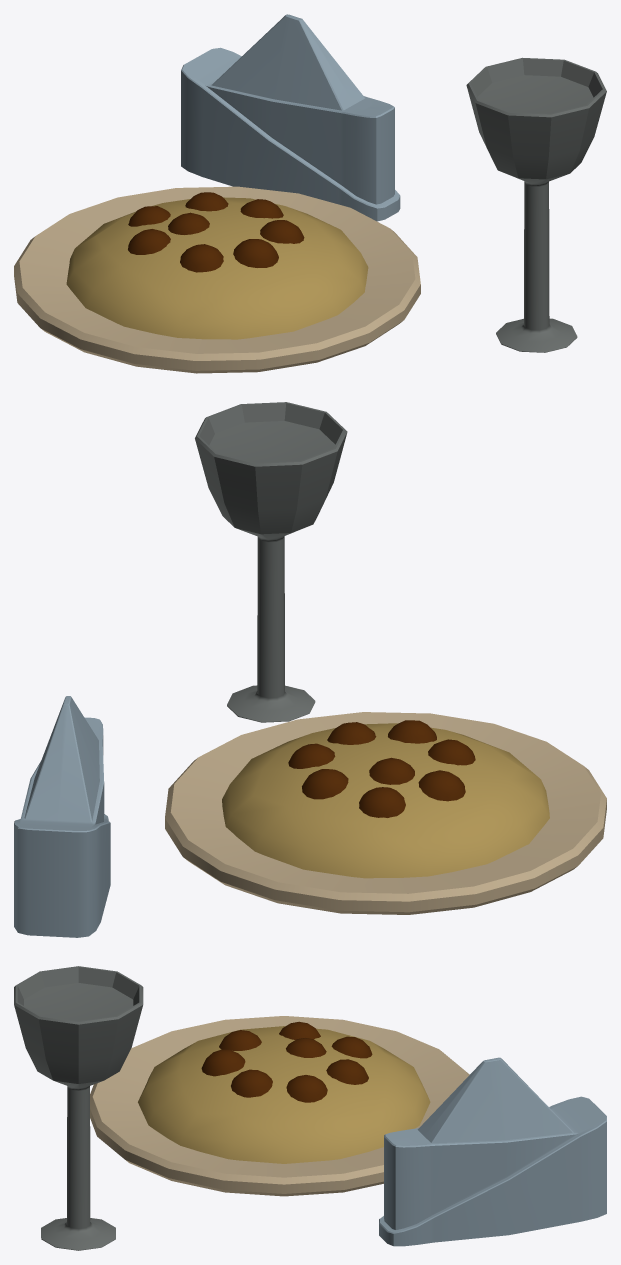
The model's file is swapDiningSetProp_HWG.fbx.
The picture shows the model from 3 angles, top to bottom: view 1: azimuth 30°, elevation 25°; view 2: azimuth 150°, elevation 25°; view 3: azimuth 270°, elevation 25°; orthographic projection. The views are drawn at different scales.
Parts seen in each view (by area): view 1: swapdiningset; view 2: swapdiningset; view 3: swapdiningset.
Part boxes in pixels (box(x1,y1,x2,y2)): swapdiningset: box(14, 14, 606, 373); swapdiningset: box(14, 402, 606, 937); swapdiningset: box(14, 966, 606, 1250).
Size of the model in its own units: 27.9 by 14.77 by 33.05.
